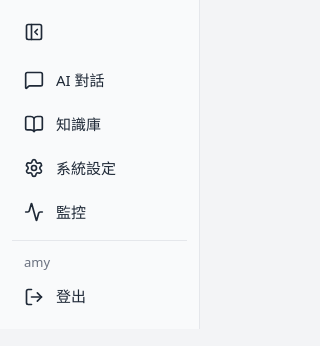
Scenario: NavSidebar › collapse hides labels and persists
Expected: the text "AI 對話" is shown, [56,69,105,91]
Click the button named "收合選單": (100, 32) [12,12,187,52]
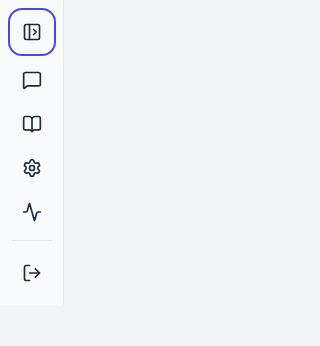
Expected: the text "AI 對話" is gone
